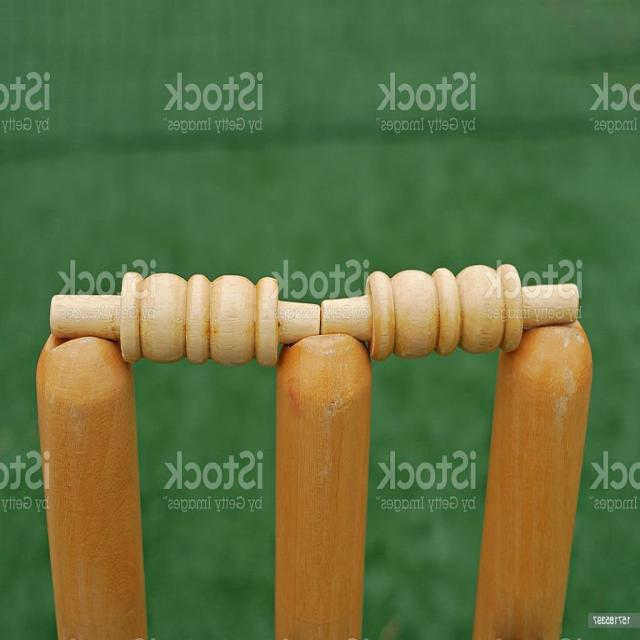stump: (36, 271, 588, 640)
